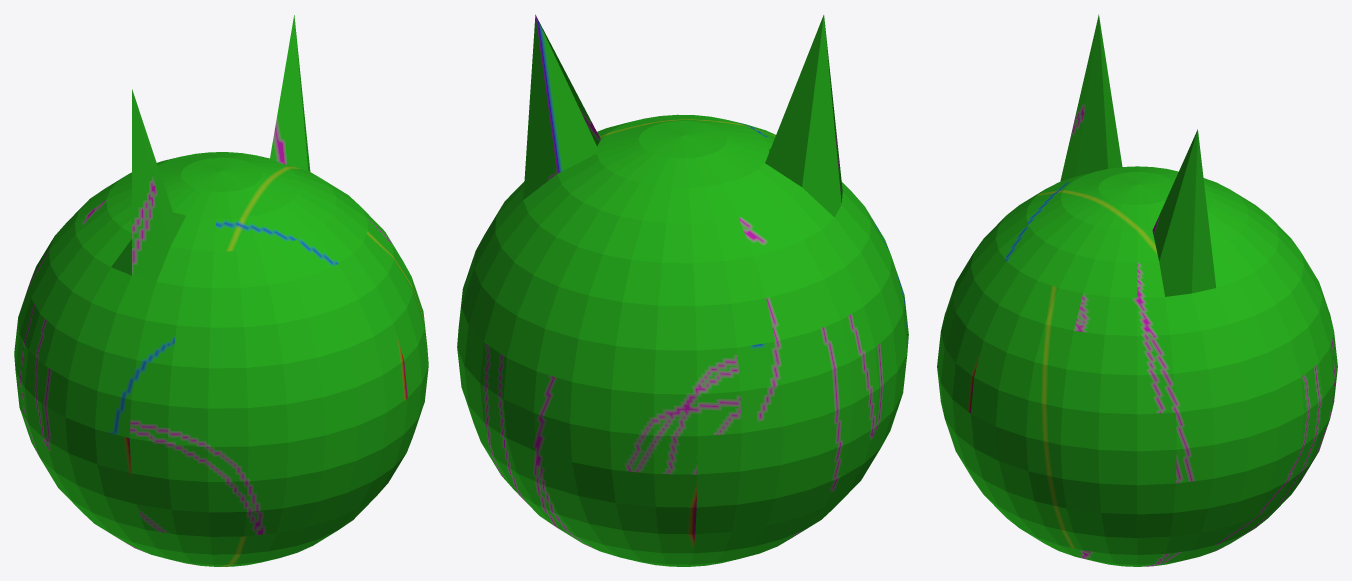
The model's file is Cat.obj.
3 renders of one model, left to right at view 1: azimuth 30°, elevation 25°; view 2: azimuth 150°, elevation 25°; view 3: azimuth 270°, elevation 25°, orthographic. The views are drawn at different scales.
Visible parts, largest first — view 1: CAT; view 2: CAT; view 3: CAT.
Boxes of the visible parts, x1=… form: CAT: x1=14, y1=15, x2=428, y2=566; CAT: x1=457, y1=14, x2=908, y2=566; CAT: x1=937, y1=14, x2=1337, y2=566.
Size of the model in its own units: 2 by 2.66 by 2.
